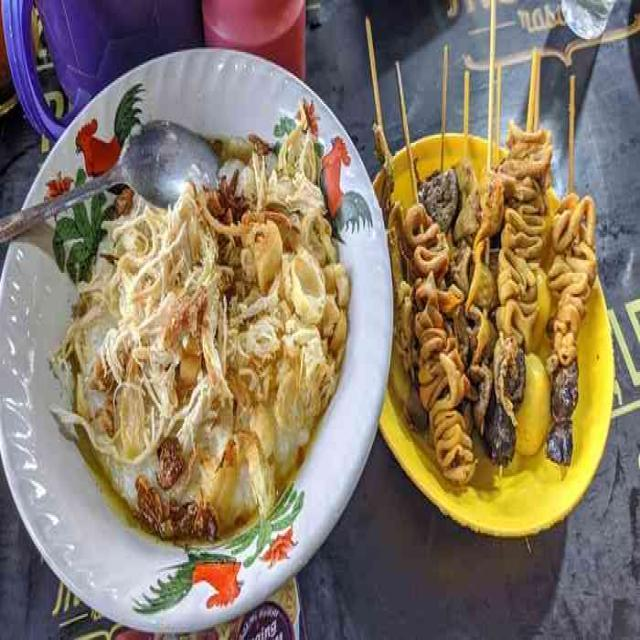bubur ayam: (76, 106, 352, 542)
mangkuk: (0, 47, 395, 624)
